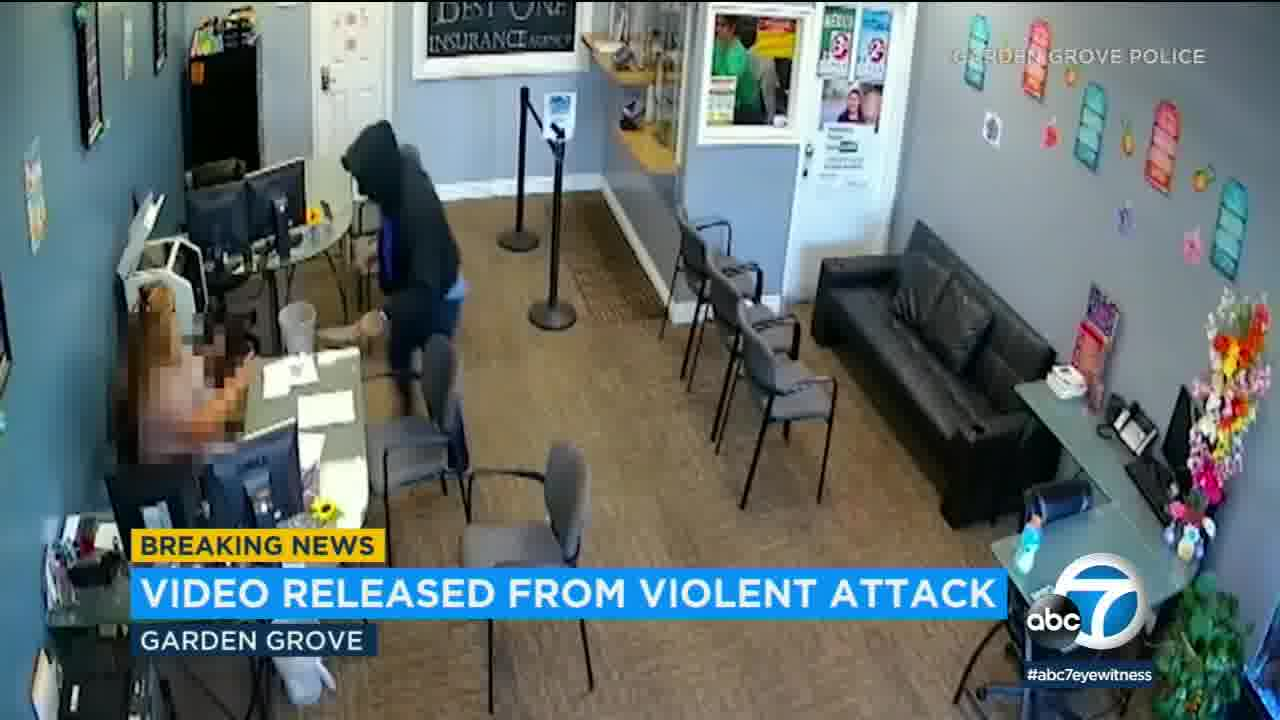knife: (307, 326, 361, 350)
knife in hand: (299, 263, 460, 361)
person: (342, 122, 466, 344), (118, 266, 241, 470)
